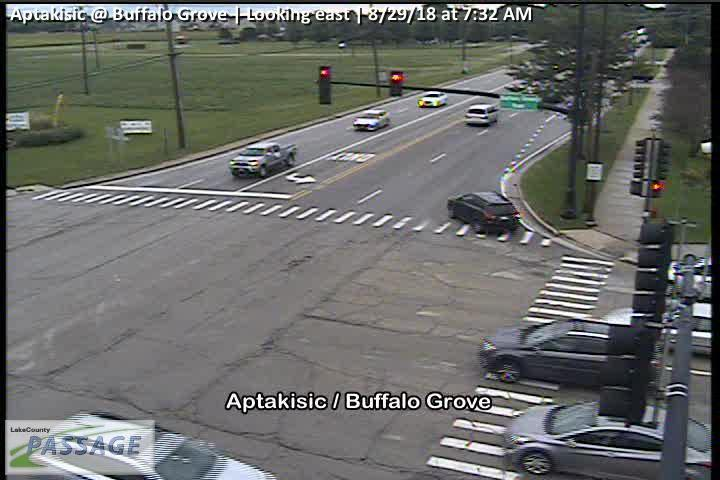SUV: (463, 102, 497, 124)
Sedan: (502, 399, 716, 480), (477, 315, 663, 385), (446, 190, 520, 233), (352, 109, 390, 130), (416, 89, 450, 107)
Truck: (227, 141, 298, 180)
